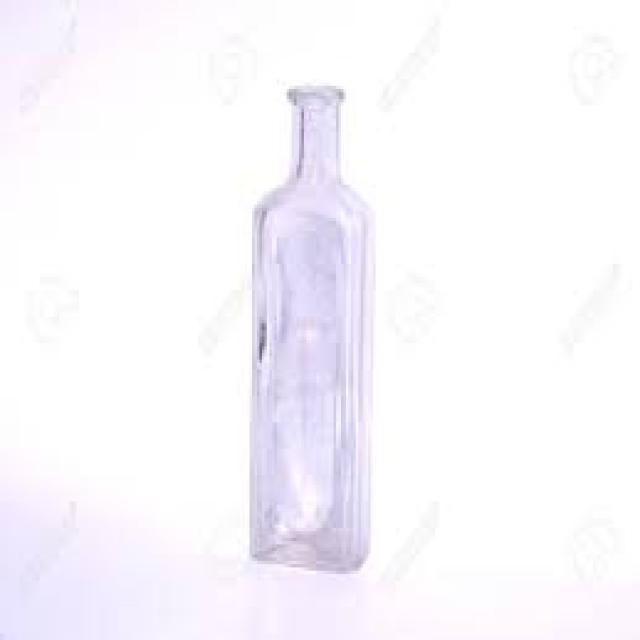Glass: (250, 86, 370, 575)
